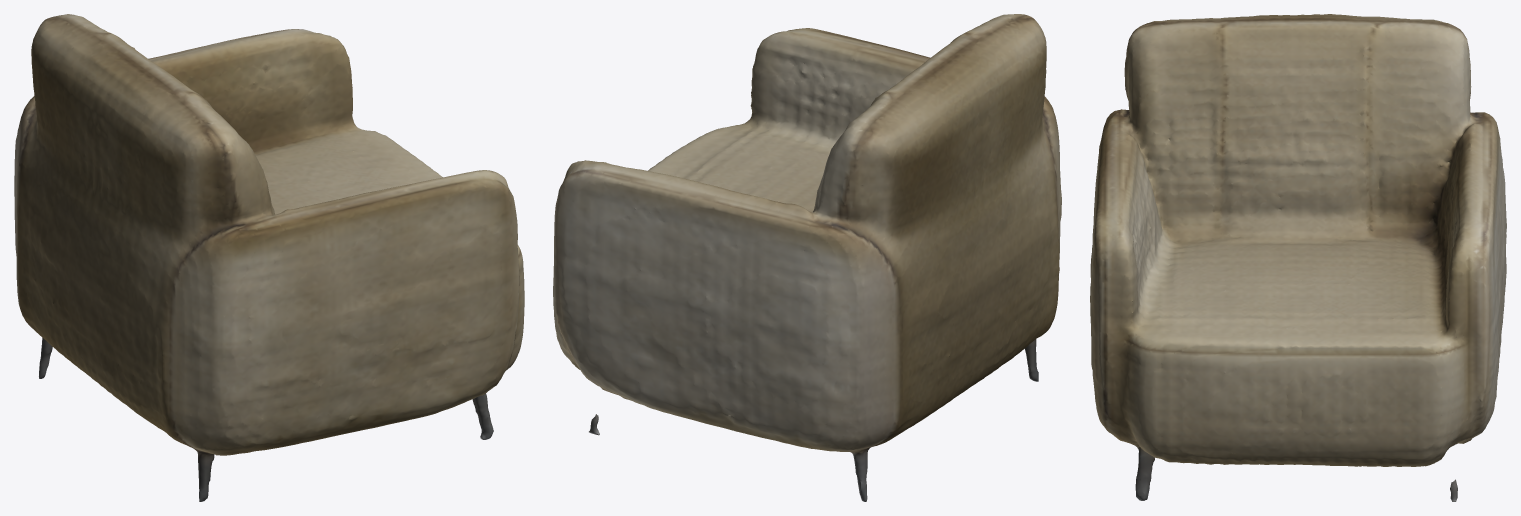
File: SILLON CHESTER.glb
3 views of the same model, side by side, from view 1: azimuth 30°, elevation 25°; view 2: azimuth 150°, elevation 25°; view 3: azimuth 270°, elevation 25° (orthographic). The views are drawn at different scales.
Parts seen in each view (by area): view 1: geometry_0; view 2: geometry_0; view 3: geometry_0.
Part boxes in pixels (left/top/right/bottom): geometry_0: left=14, top=14, right=524, bottom=501; geometry_0: left=553, top=14, right=1061, bottom=501; geometry_0: left=1090, top=14, right=1506, bottom=501.
Size of the model in its own units: 0.78 by 0.76 by 0.8.
